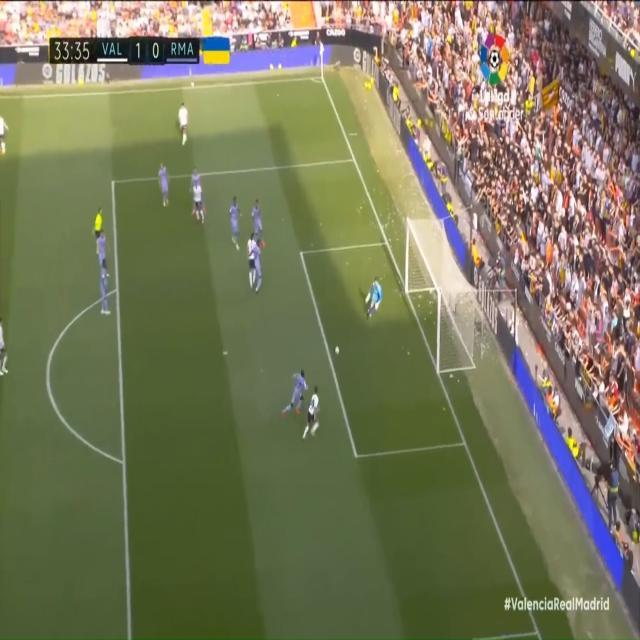ball: (333, 339, 343, 363)
goalkeeper: (364, 270, 388, 331)
player: (302, 383, 326, 452), (284, 366, 310, 429), (177, 100, 194, 158), (228, 186, 242, 256), (154, 156, 172, 210), (98, 258, 112, 313), (191, 181, 207, 225), (254, 238, 265, 294), (254, 199, 268, 241), (92, 230, 109, 263), (0, 310, 7, 386), (1, 113, 12, 161), (189, 166, 203, 202), (248, 234, 257, 289)
referee: (91, 199, 105, 248)
